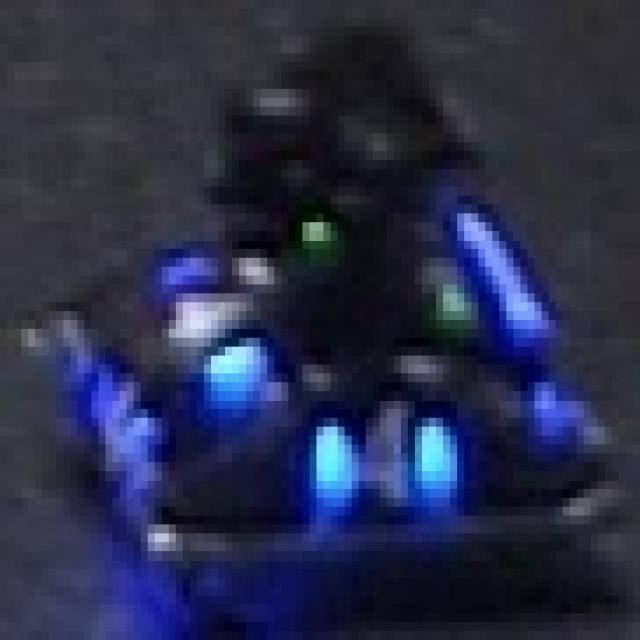B4: (141, 240, 274, 400), (310, 391, 464, 507)
